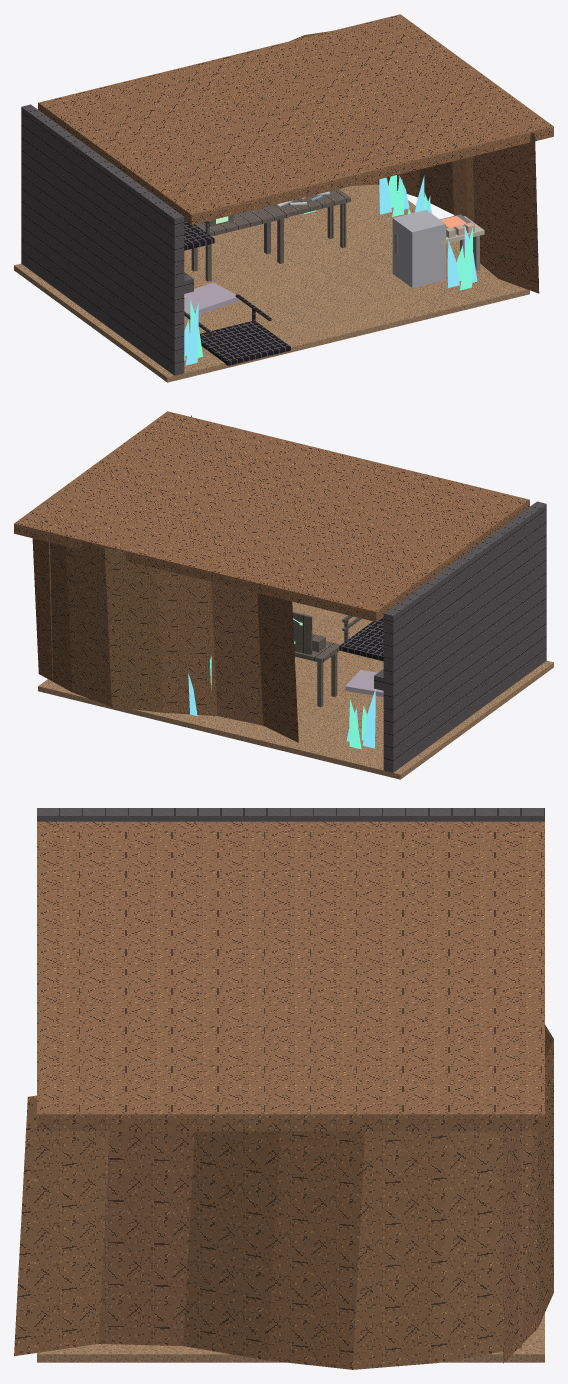
Rendered from endo-junction.glb.
3 renders of one model, top to bottom at view 1: azimuth 30°, elevation 25°; view 2: azimuth 150°, elevation 25°; view 3: azimuth 270°, elevation 25°, orthographic. The views are drawn at different scales.
Parts seen in each view (by area): view 1: Junction_Ceiling, Junction_Floor, Fac_Wall, Junction_RockRight, Junction_Fridge, Junction_Hatch, Junction_Bedroll, Junction_Workbench_top, Junction_Toolbench_top, Fac_Catwalk, Fr_5_3, Fr_2_3; view 2: Junction_Ceiling, Junction_RockBack, Fac_Wall, Junction_Floor, Fac_Catwalk, WB_board, Junction_Bedroll, Fr_6_2, Junction_Workbench_top; view 3: Junction_Ceiling, Junction_RockRight, Junction_RockBack, Fac_Wall, Junction_Floor.
Boxes of the visible parts, x1,y1,x2,y2 form: Junction_Ceiling: [38, 14, 553, 224]; Junction_Floor: [14, 184, 529, 382]; Fac_Wall: [21, 104, 184, 375]; Junction_RockRight: [378, 132, 539, 293]; Junction_Fridge: [392, 210, 445, 287]; Junction_Hatch: [200, 321, 290, 366]; Junction_Bedroll: [184, 282, 239, 319]; Junction_Workbench_top: [195, 205, 288, 236]; Junction_Toolbench_top: [267, 189, 350, 216]; Fac_Catwalk: [184, 220, 214, 250]; Fr_5_3: [185, 302, 198, 365]; Fr_2_3: [460, 227, 472, 290]; Junction_Ceiling: [14, 411, 529, 621]; Junction_RockBack: [32, 538, 298, 742]; Fac_Wall: [383, 501, 546, 772]; Junction_Floor: [38, 601, 553, 779]; Fac_Catwalk: [339, 617, 383, 661]; WB_board: [293, 611, 312, 654]; Junction_Bedroll: [345, 670, 383, 696]; Fr_6_2: [362, 689, 375, 748]; Junction_Workbench_top: [294, 641, 340, 663]; Junction_Ceiling: [37, 821, 544, 1131]; Junction_RockRight: [14, 1095, 533, 1369]; Junction_RockBack: [503, 1025, 553, 1363]; Fac_Wall: [37, 808, 544, 821]; Junction_Floor: [37, 1313, 544, 1362].
Size of the model in its own units: 16 by 6.4 by 11.7.
23 materials, 5 textured.
